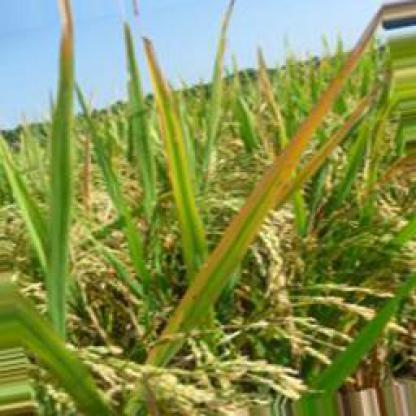Tungro: (173, 14, 386, 333), (138, 34, 217, 271), (44, 2, 86, 85)
